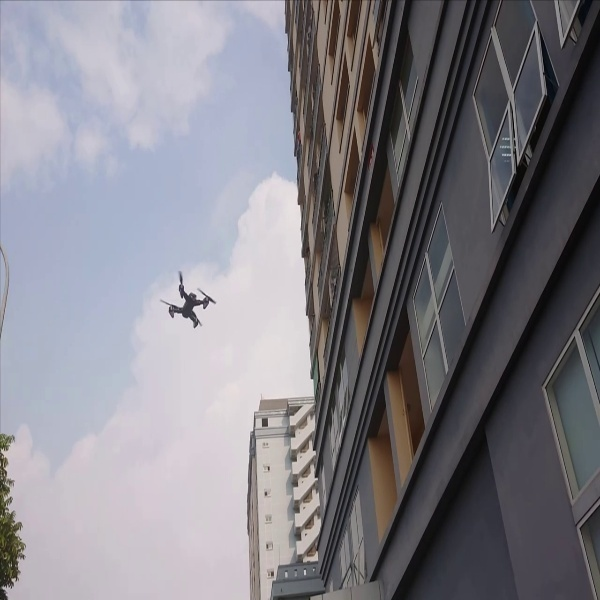drone: (156, 266, 219, 335)
